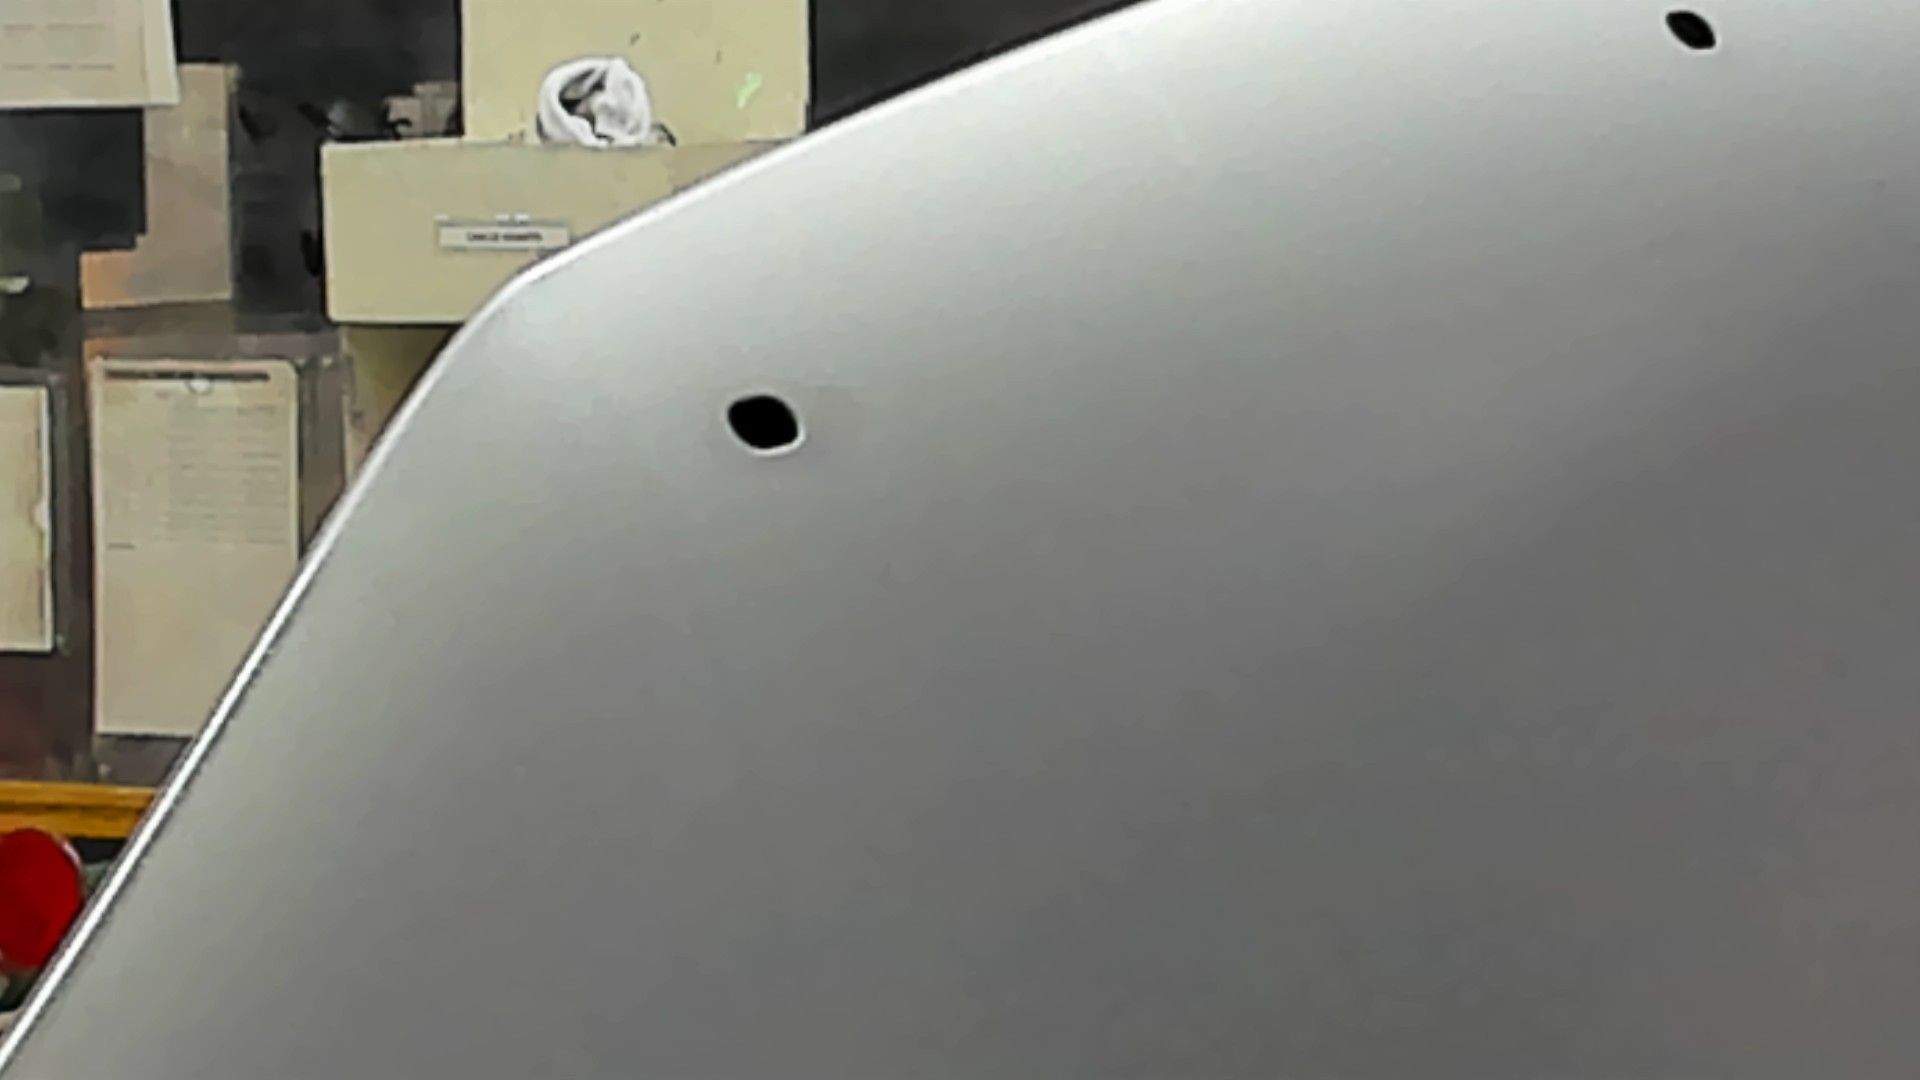chico: (719, 392, 816, 460), (1658, 5, 1725, 61)
